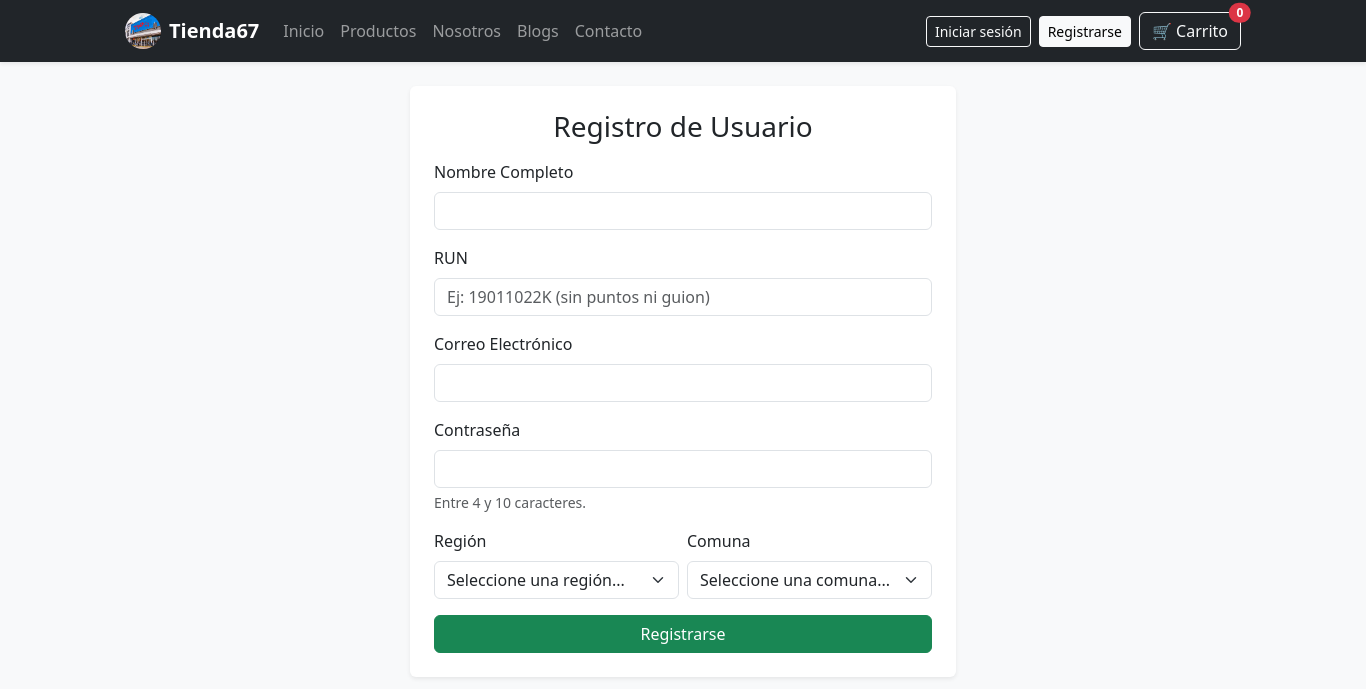
Scenario: Integración de la aplicación (App) › registro con correo ya existente muestra error y no duplica el usuario
Type "Ana Dos" into the field with test id "input-nombre" at {"x": 683, "y": 211}, box [434,192,932,230]
Type "19011022K" into the field with test id "input-run" at {"x": 683, "y": 297}, box [434,278,932,316]
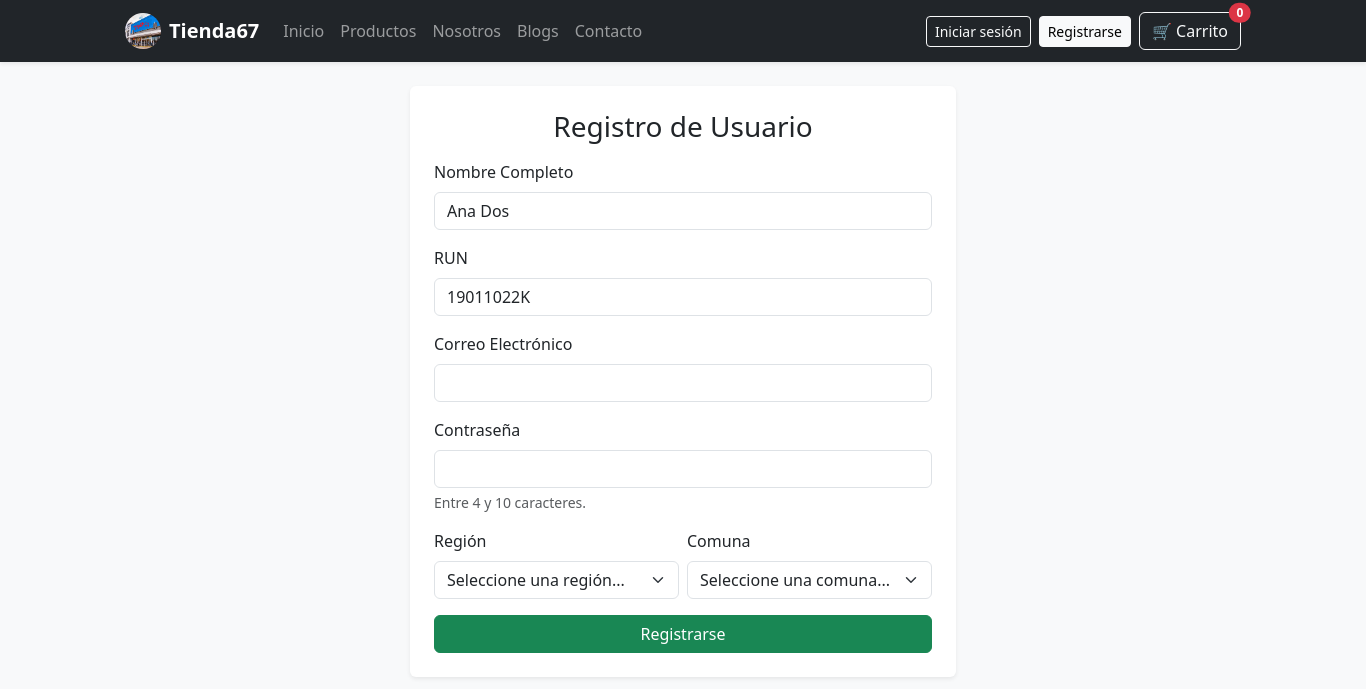
Type "ana@gmail.com" into the field with test id "input-correo" at {"x": 683, "y": 383}, box [434,364,932,402]
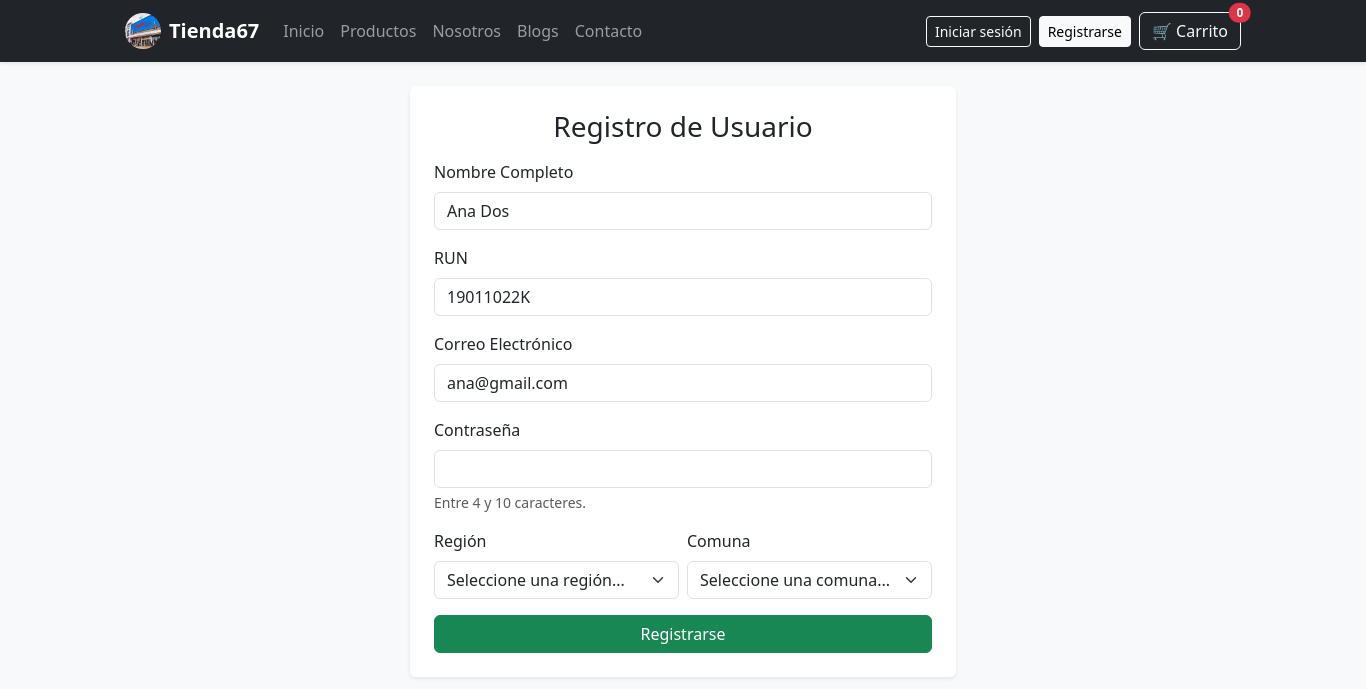
Type "1234" into the password field with test id "input-password" at {"x": 683, "y": 469}, box [434,450,932,488]
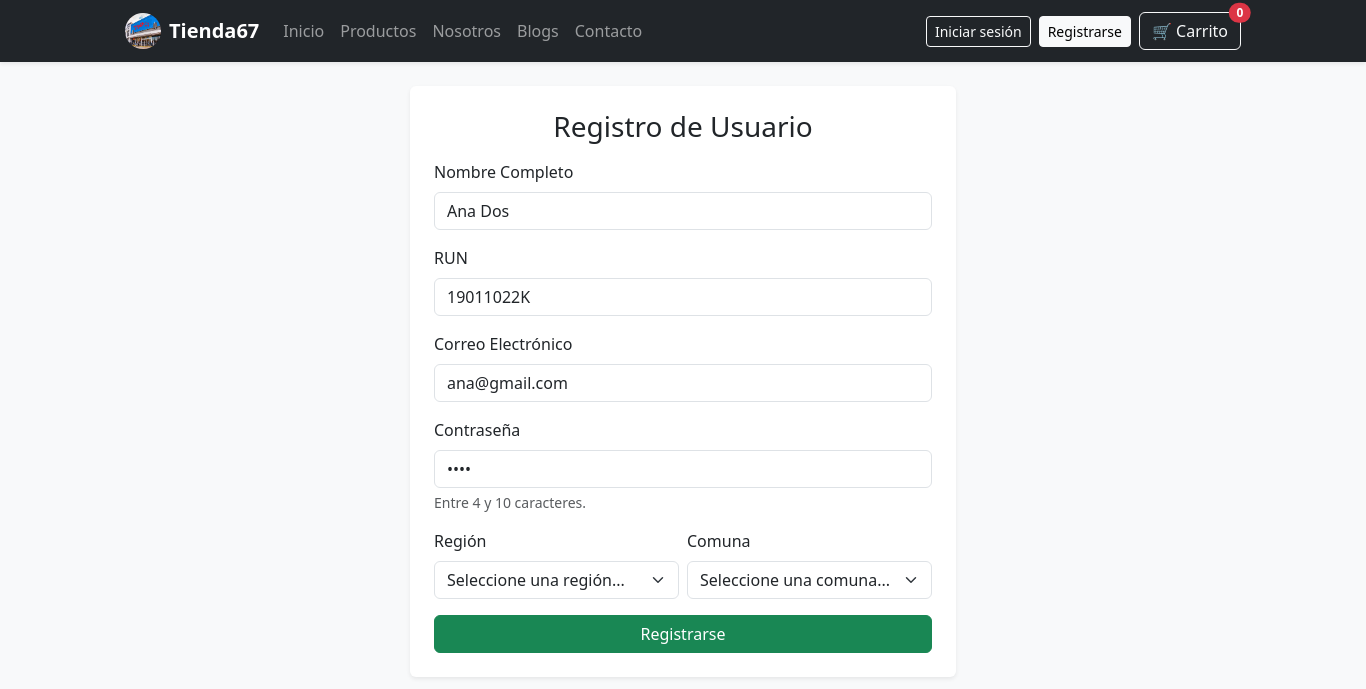
Select "Biobío" in the dropdown with test id "select-region" at {"x": 556, "y": 580}, box [434,561,679,599]
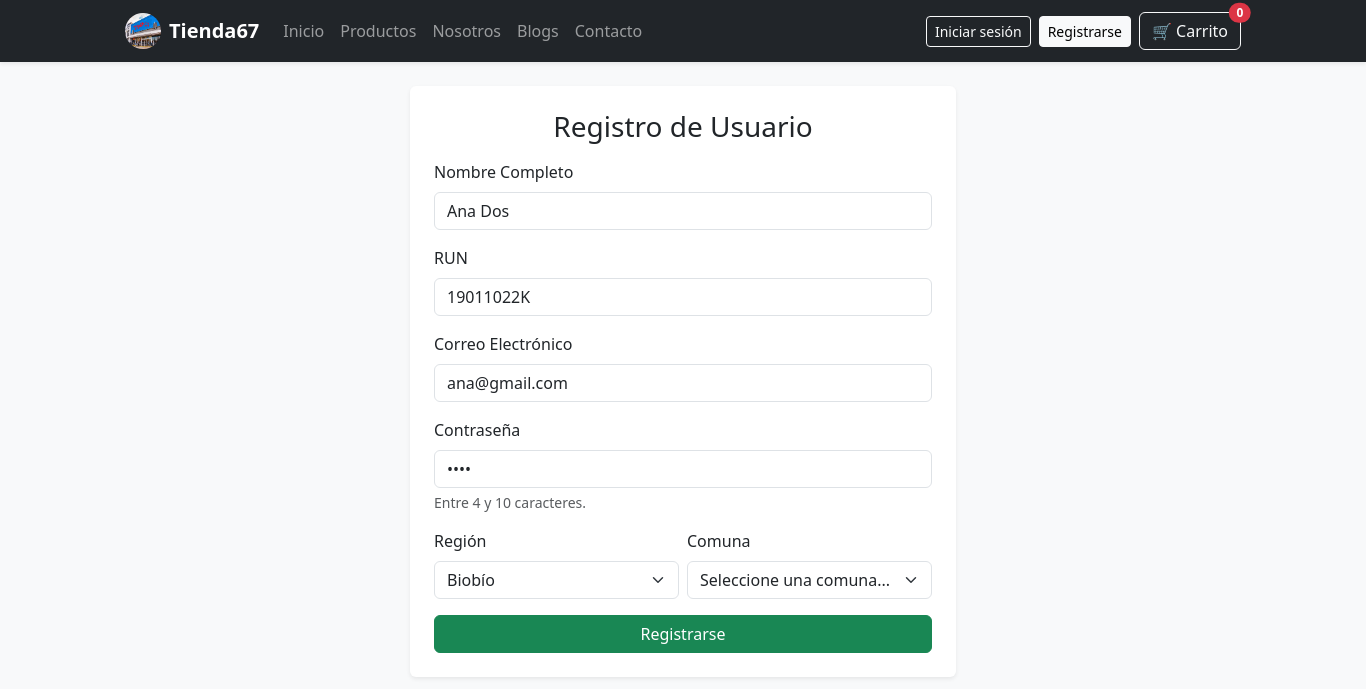
Select "Concepción" in the dropdown with test id "select-comuna" at {"x": 810, "y": 580}, box [687,561,932,599]
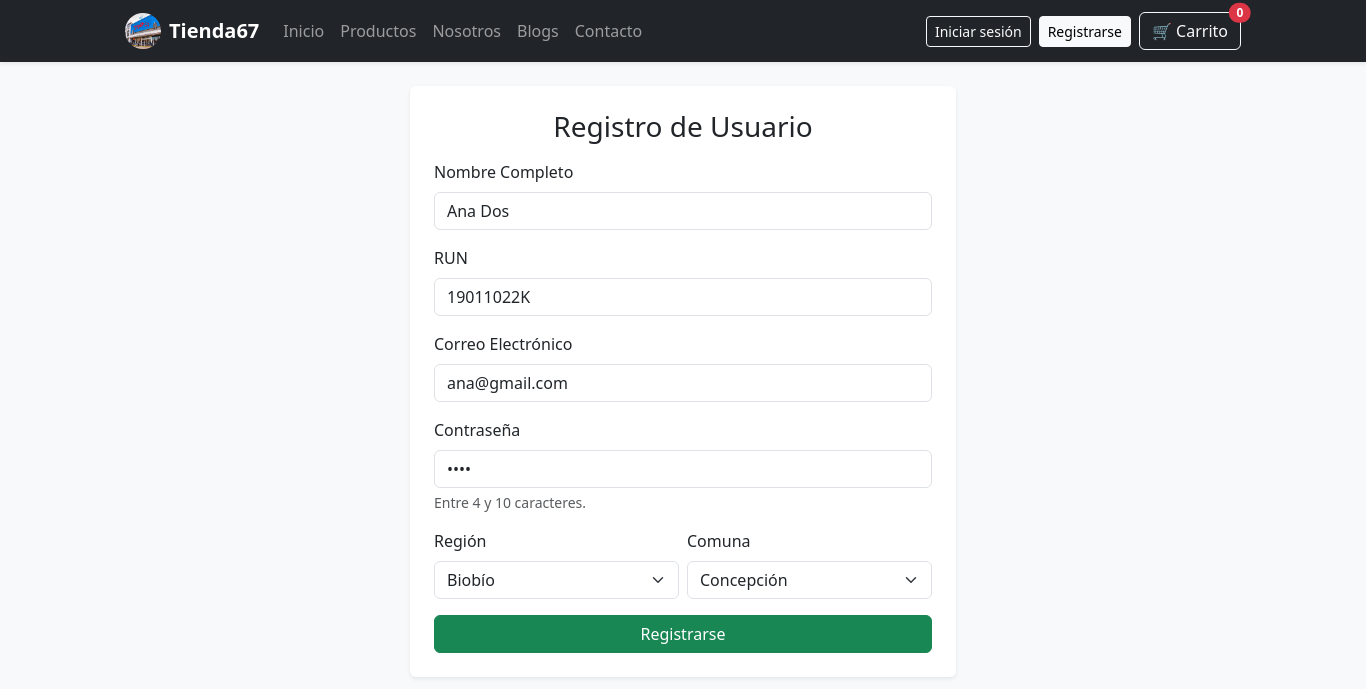
Click the button with test id "btn-submit-registro" at {"x": 683, "y": 634}, box [434,615,932,653]
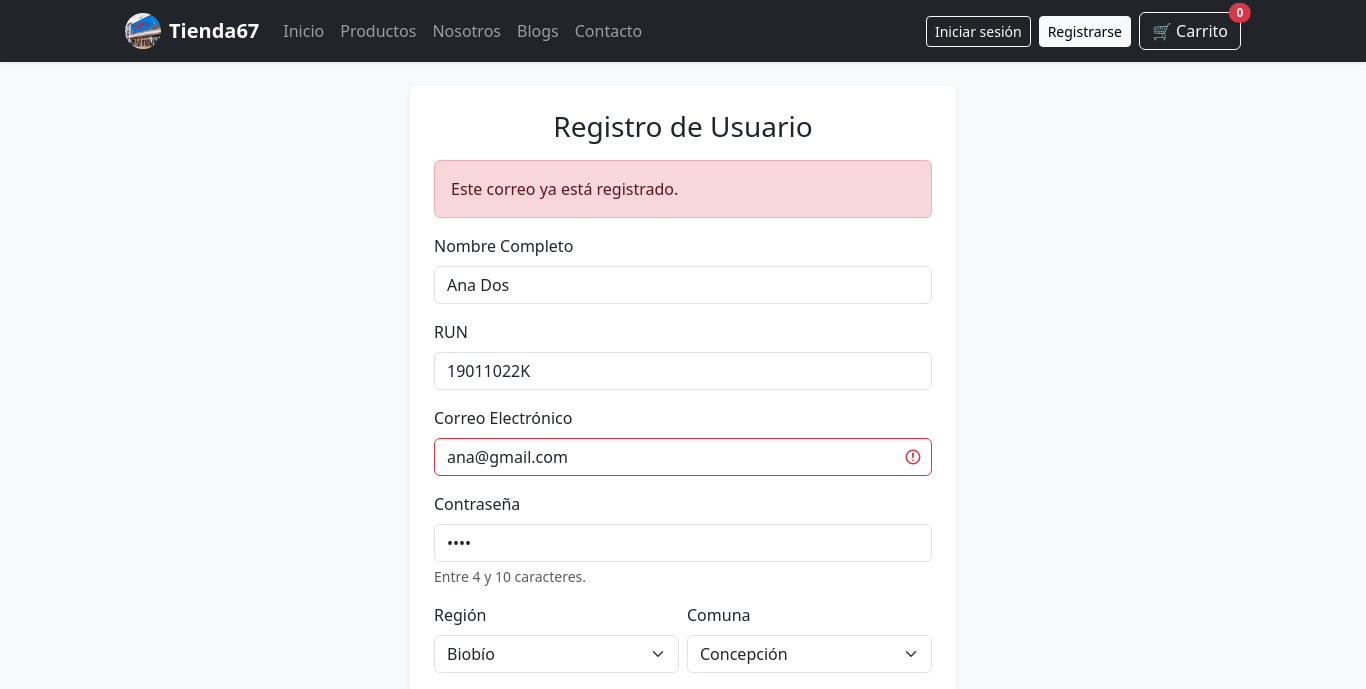
Expected: the text with test id "form-error" shows "ya está registrado", [451,178,678,200]
